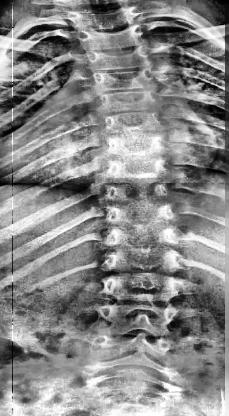Vertebrae: (94, 334, 174, 364), (106, 272, 176, 302), (100, 303, 172, 331), (112, 199, 176, 226), (106, 225, 176, 249), (106, 249, 178, 272), (72, 6, 146, 28), (82, 28, 148, 50), (106, 111, 165, 135), (107, 183, 171, 205), (93, 69, 156, 91), (109, 135, 165, 159), (99, 92, 165, 112), (112, 159, 170, 181), (93, 49, 158, 67)
